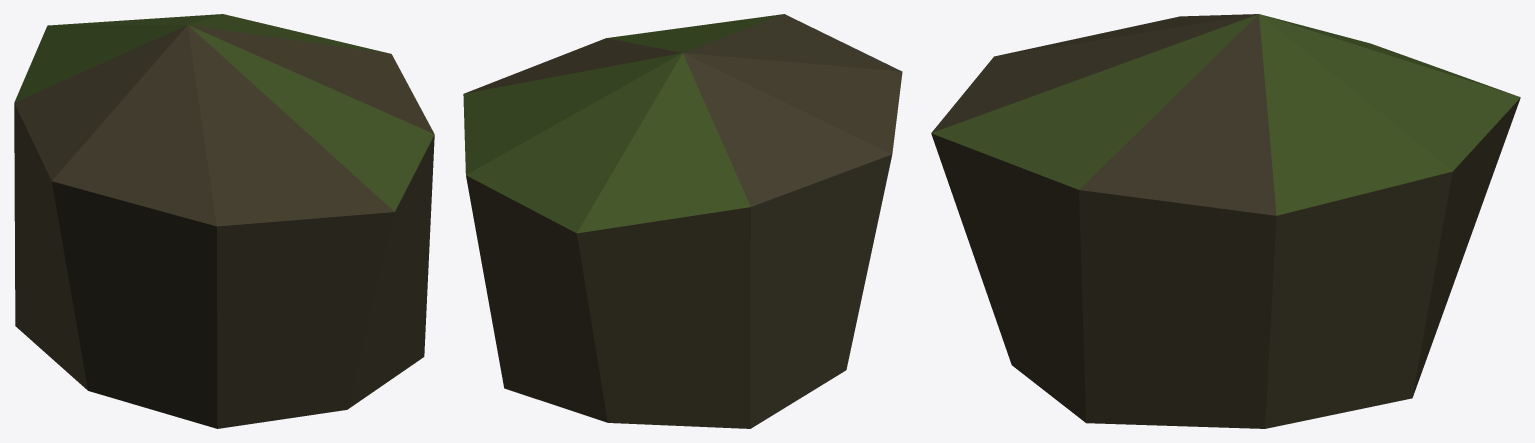
Rendered from detail_005b_algae_stone_upright.glb.
3 views of the same model, side by side, from view 1: azimuth 30°, elevation 25°; view 2: azimuth 150°, elevation 25°; view 3: azimuth 270°, elevation 25° (orthographic). The views are drawn at different scales.
Parts seen in each view (by area): view 1: detail_005b_algae_stone_upright__mesh; view 2: detail_005b_algae_stone_upright__mesh; view 3: detail_005b_algae_stone_upright__mesh.
Part boxes in pixels (x1,y1,x2,y2): detail_005b_algae_stone_upright__mesh: (14, 14, 434, 428); detail_005b_algae_stone_upright__mesh: (463, 14, 902, 428); detail_005b_algae_stone_upright__mesh: (931, 14, 1520, 428).
Size of the model in its own units: 0.7152 by 0.55 by 0.8936.
